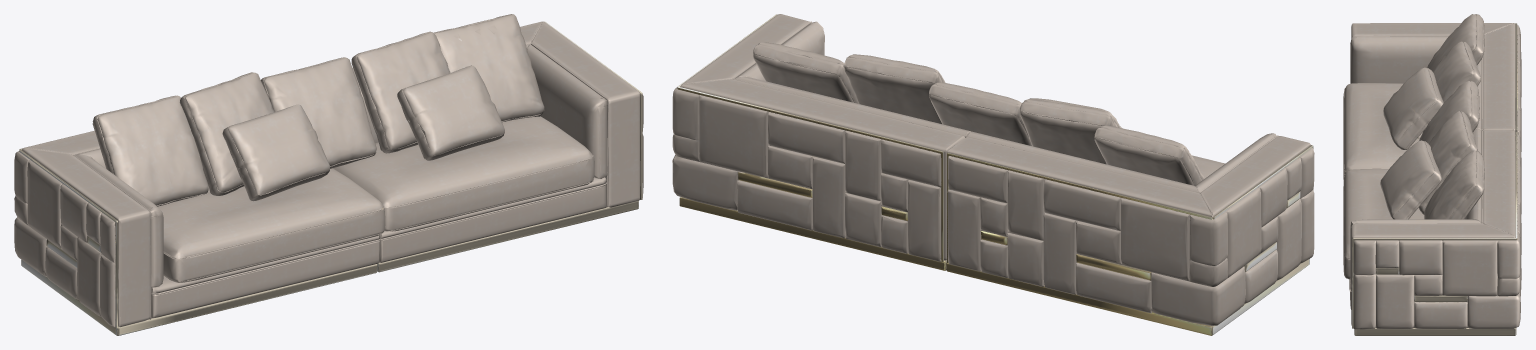
The model's file is raw_model.obj.
3 views of the same model, side by side, from view 1: azimuth 30°, elevation 25°; view 2: azimuth 150°, elevation 25°; view 3: azimuth 270°, elevation 25° (orthographic). The views are drawn at different scales.
Visible parts, largest first — view 1: solid_001, solid_002; view 2: solid_001, solid_002; view 3: solid_001, solid_002.
Boxes of the visible parts, bbox=[...] form: solid_001: bbox=[14, 14, 643, 327]; solid_002: bbox=[19, 21, 642, 335]; solid_001: bbox=[672, 14, 1314, 325]; solid_002: bbox=[677, 14, 1313, 335]; solid_001: bbox=[1343, 14, 1521, 329]; solid_002: bbox=[1352, 23, 1517, 335].
Bounding box in the file's own units: 3.17 × 0.9188 × 1.09.
1 material, 1 textured.
